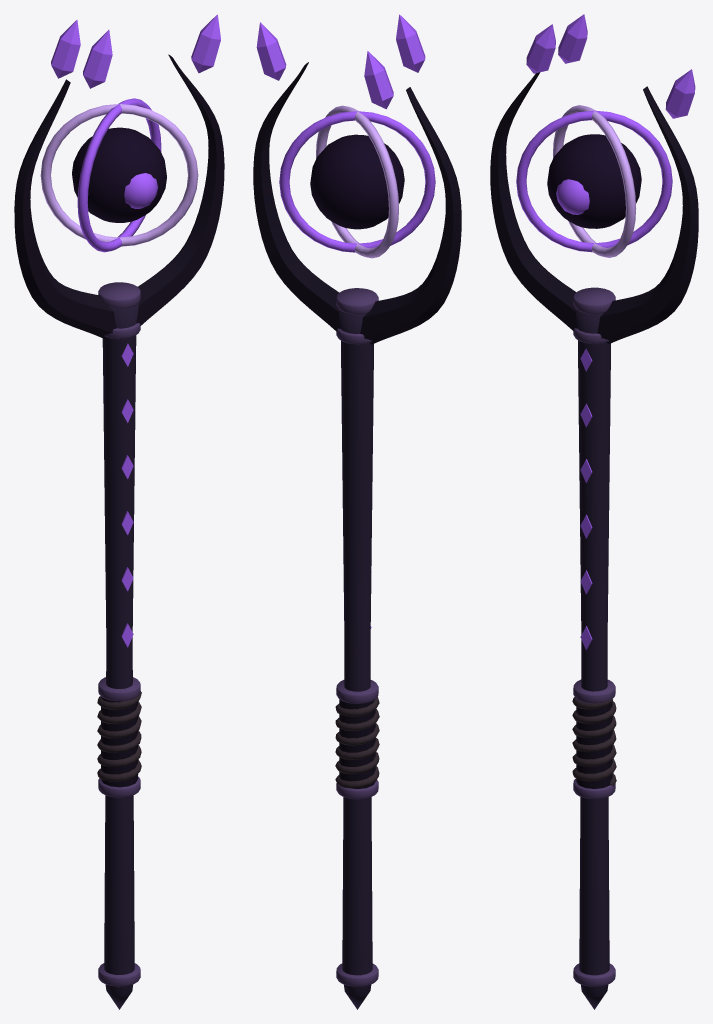
The model's file is staff_void.fbx.
The picture shows the model from 3 angles, left to right: view 1: azimuth 30°, elevation 25°; view 2: azimuth 150°, elevation 25°; view 3: azimuth 330°, elevation 25°; orthographic projection.
Parts seen in each view (by area): view 1: staff_void; view 2: staff_void; view 3: staff_void.
Boxes of the visible parts, x1=… form: staff_void: x1=14, y1=14, x2=224, y2=1009; staff_void: x1=253, y1=14, x2=461, y2=1009; staff_void: x1=490, y1=14, x2=698, y2=1009.
Size of the model in its own units: 0.3287 by 1.5 by 0.14.
